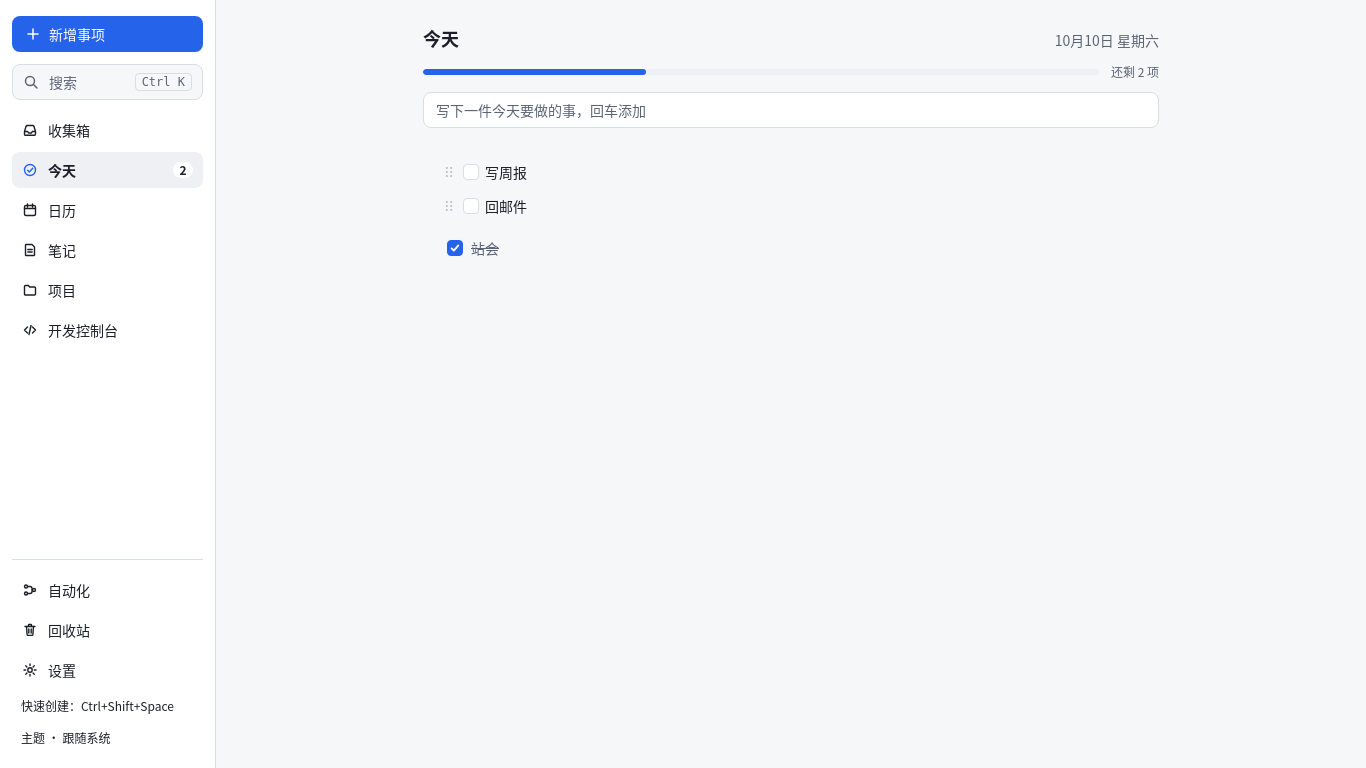
Test: MainShell › 在主窗口完成待办会调用后端；后端数据变化事件会刷新列表（与悬浮窗同步的同一机制）
The width and height of the screenshot is (1366, 768).
Expected: the button "写周报" is shown, [485, 162, 1113, 182]
What coordinates should you click on to do the following:
click the checkbox named "完成「写周报」"
I would click on:
 (471, 172)
Its box is [463, 164, 479, 180].
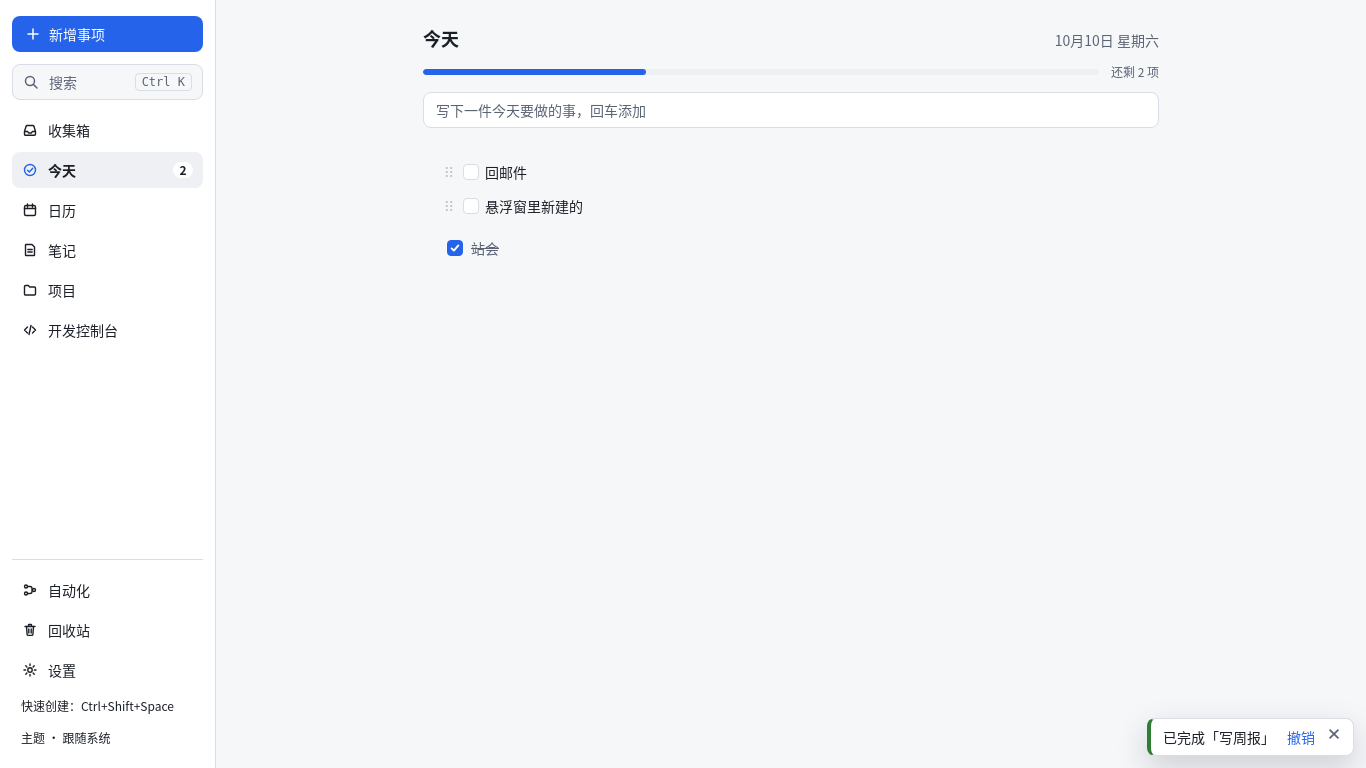
Now the button "悬浮窗里新建的" is shown, box [485, 196, 1113, 216]
